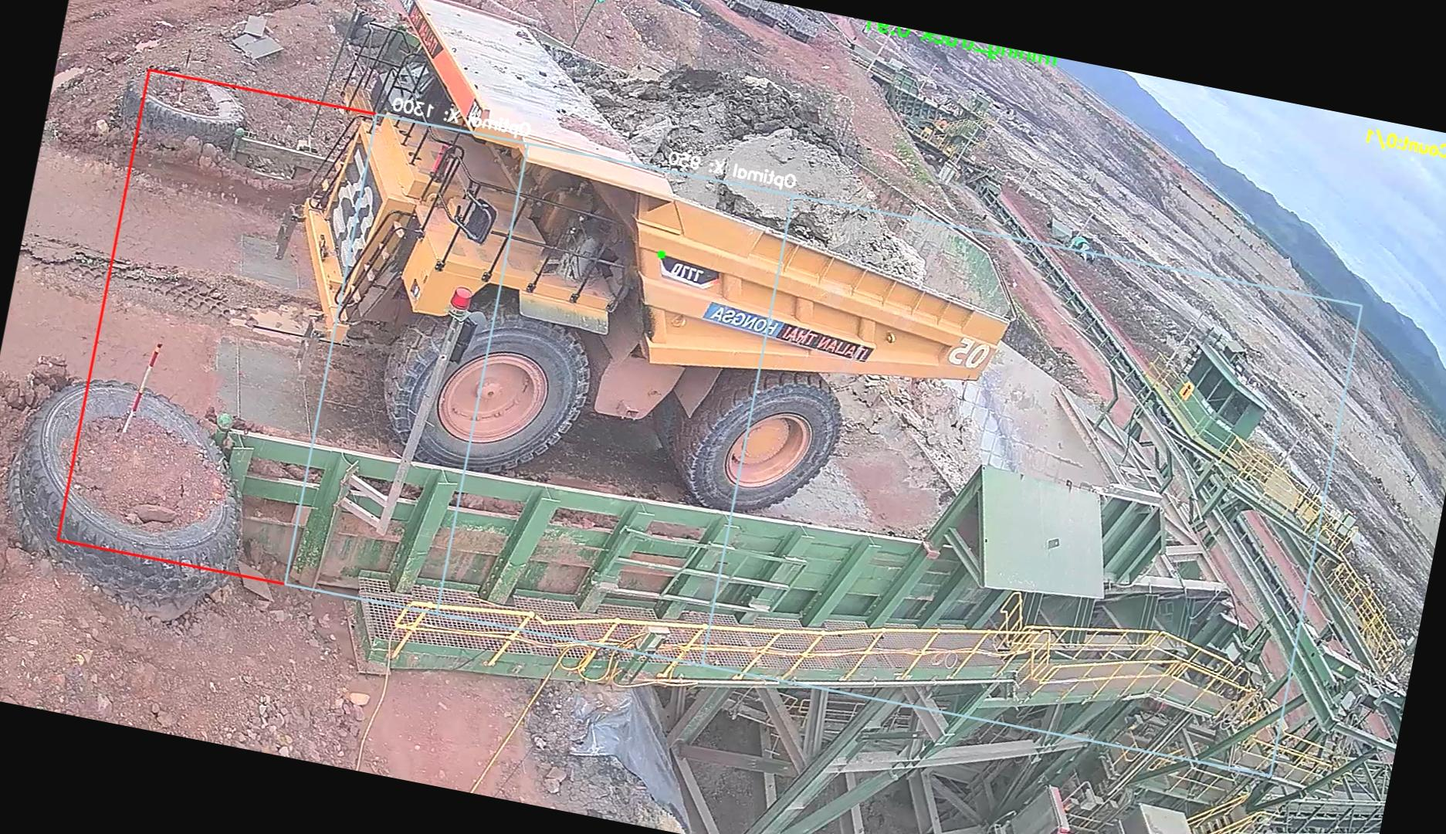company: (691, 293, 884, 375)
full_load: (618, 45, 880, 263)
mining_truck: (232, 0, 1072, 569)
tail_number: (934, 326, 1001, 386)
truck_size: (650, 251, 734, 295)
